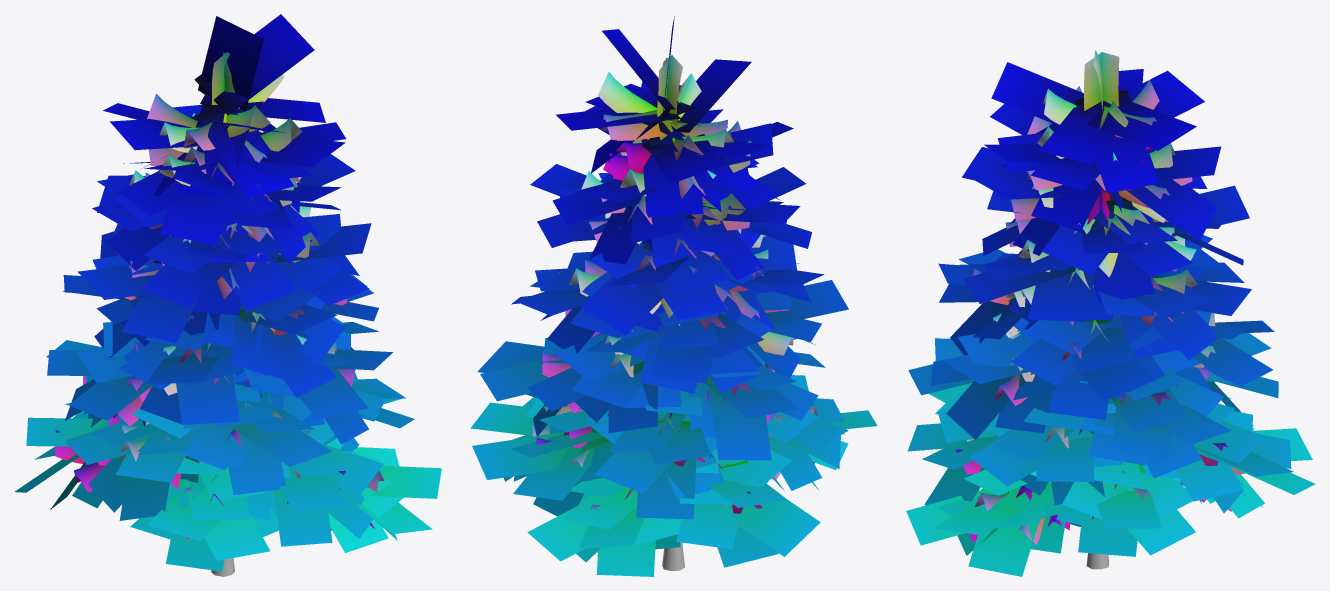
Rendered from spruce_01_2.fbx.
3 renders of one model, left to right at view 1: azimuth 30°, elevation 25°; view 2: azimuth 150°, elevation 25°; view 3: azimuth 270°, elevation 25°, orthographic.
Visible parts, largest first — view 1: spruce_leaves_01_2_shadow, spruce_leaves_01_2_lod_0; view 2: spruce_leaves_01_2_shadow, spruce_leaves_01_2_lod_0; view 3: spruce_leaves_01_2_shadow, spruce_leaves_01_2_lod_0.
Boxes of the visible parts, left/top/right/bottom form: spruce_leaves_01_2_shadow: left=14, top=14, right=441, bottom=571; spruce_leaves_01_2_lod_0: left=55, top=52, right=383, bottom=539; spruce_leaves_01_2_shadow: left=470, top=16, right=877, bottom=576; spruce_leaves_01_2_lod_0: left=532, top=55, right=817, bottom=552; spruce_leaves_01_2_shadow: left=906, top=62, right=1315, bottom=576; spruce_leaves_01_2_lod_0: left=955, top=50, right=1245, bottom=544.
Size of what is drawn, in the model's own units: 8.86 by 13.15 by 8.88.
